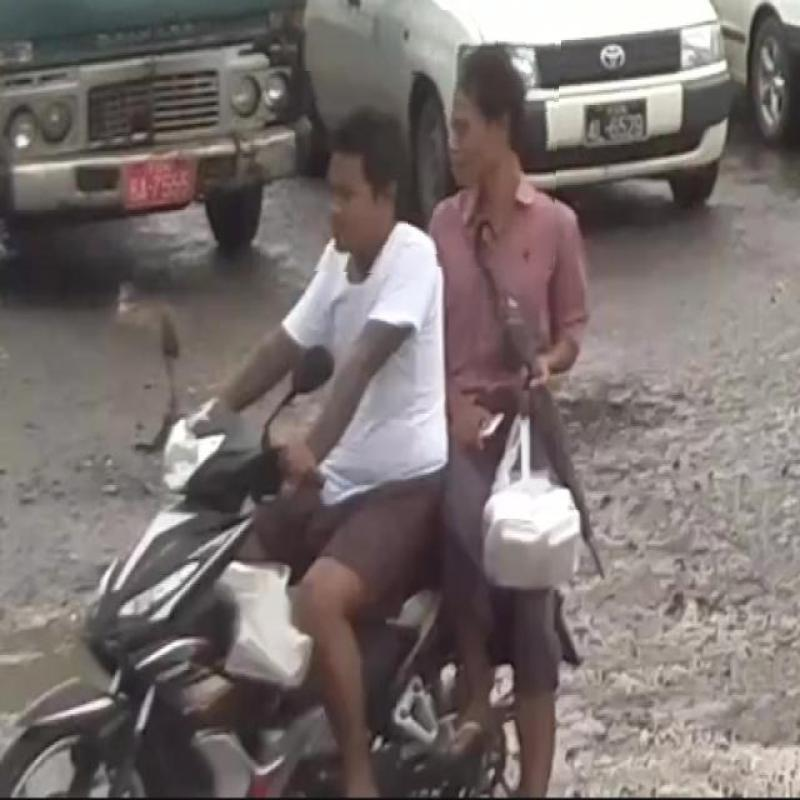nohelmet: (432, 10, 559, 269), (294, 72, 436, 274)
